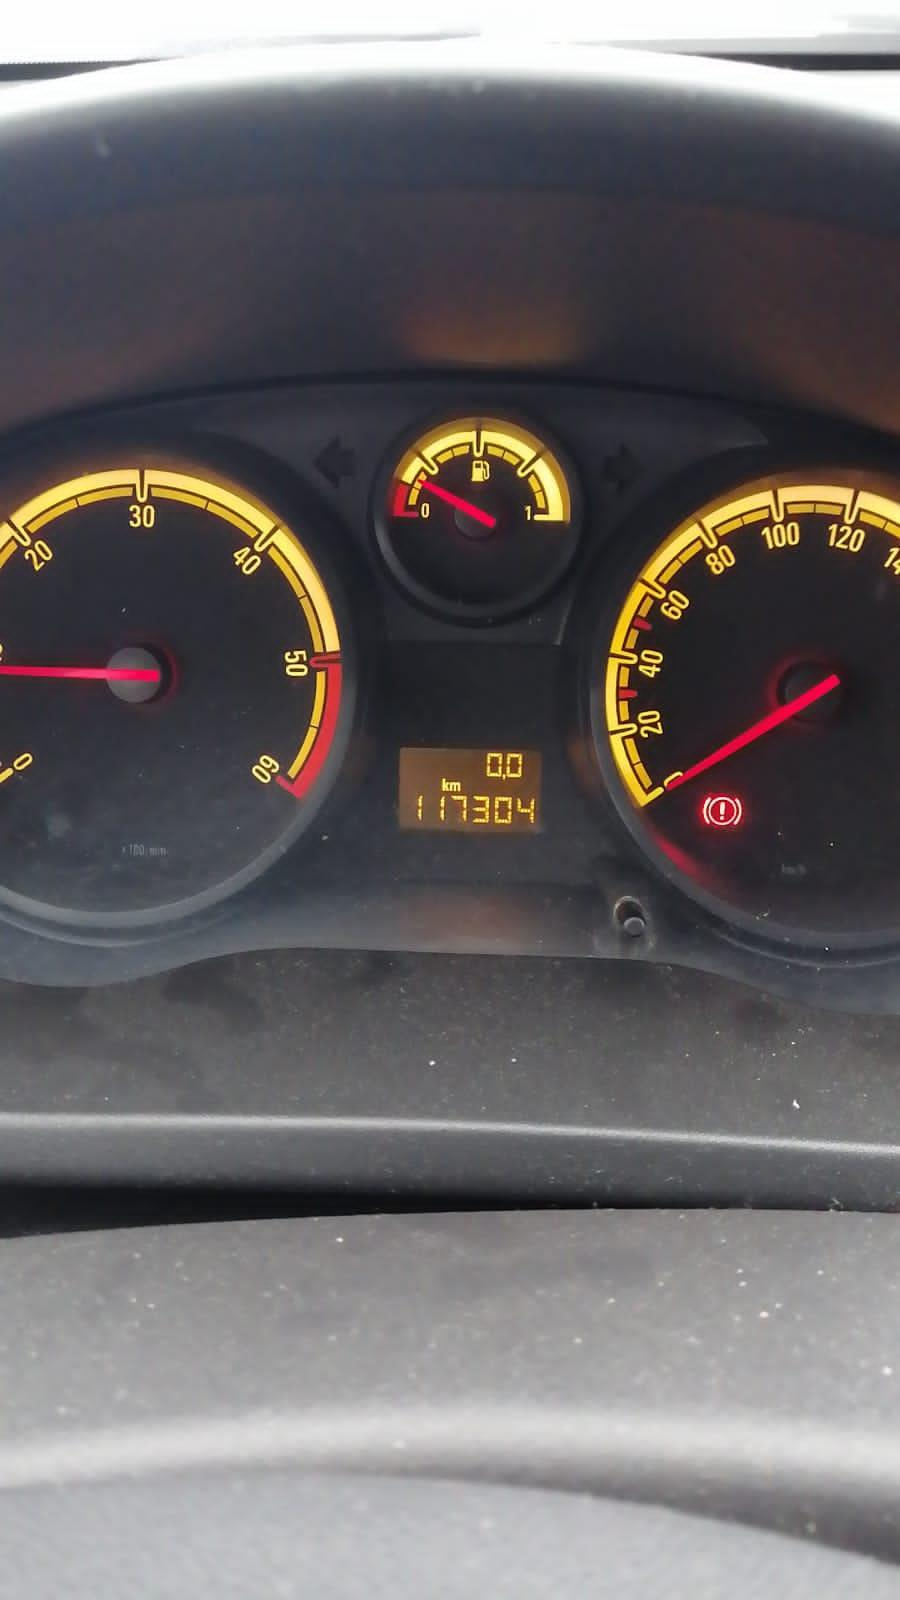,: (501, 773, 505, 781)
0: (493, 796, 513, 824), (485, 752, 503, 777), (505, 752, 523, 778)
1: (438, 795, 446, 822), (416, 795, 423, 821)
3: (470, 795, 490, 823)
4: (515, 797, 535, 823)
7: (449, 795, 468, 822)
X: (449, 781, 462, 792), (441, 778, 449, 792)
odometer: (395, 742, 545, 835)
